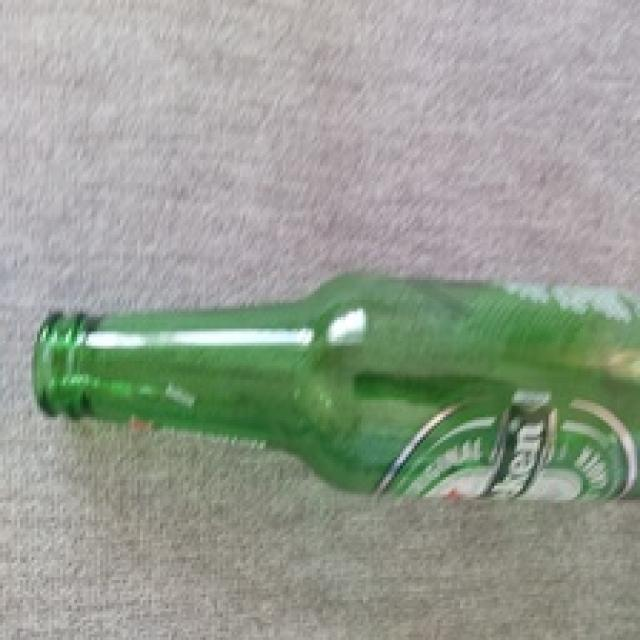Glass: (29, 270, 640, 504)
